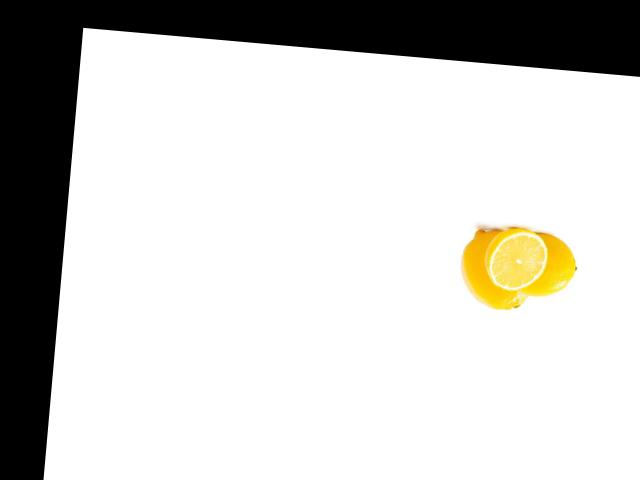lemon: (500, 227, 578, 301)
